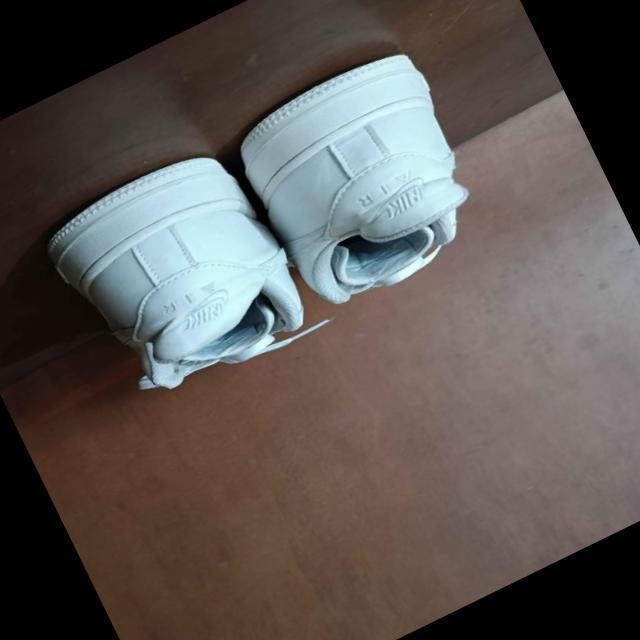nike original air force: (28, 131, 318, 419), (226, 38, 508, 324)
